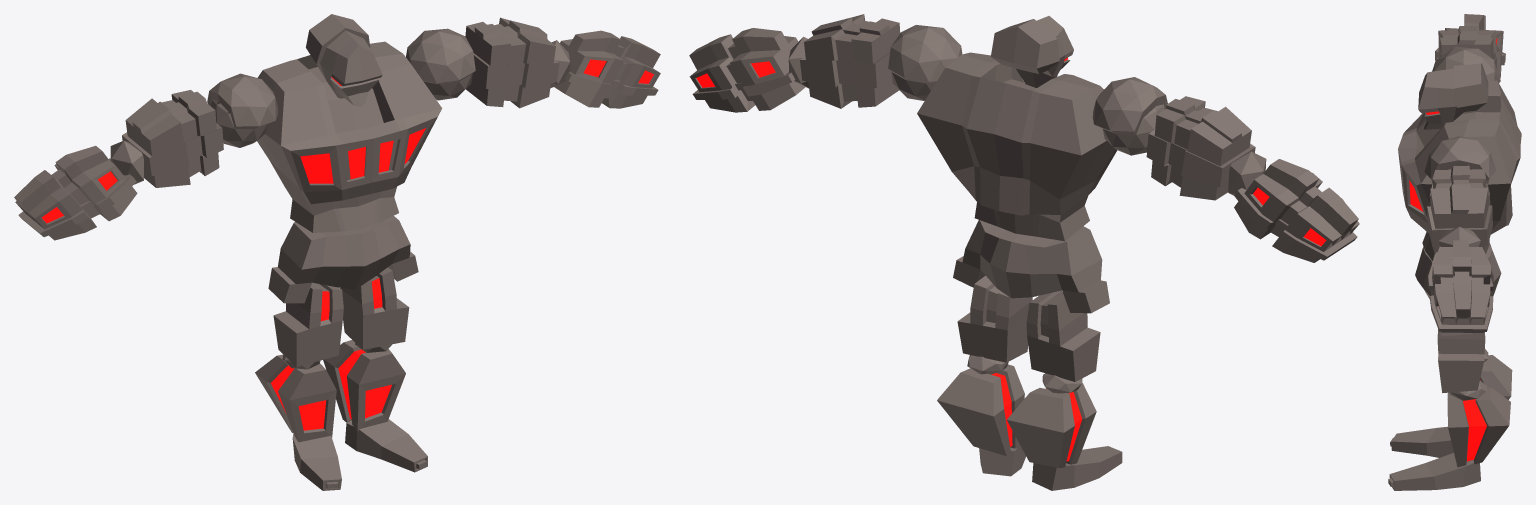
File: blockman.fbx
The picture shows the model from 3 angles, left to right: view 1: azimuth 30°, elevation 25°; view 2: azimuth 150°, elevation 25°; view 3: azimuth 270°, elevation 25°; orthographic projection. The views are drawn at different scales.
Visible parts, largest first — view 1: Cube.031, Cube.034, Cube.033, Cube.028, Cube.027, Cube.030, Icosphere.001, Cube.029, Cube.036, Icosphere; view 2: Cube.031, Cube.033, Cube.034, Cube.028, Cube.027, Cube.030, Icosphere.001, Cube.036, Cube.029, Icosphere, Sphere.006; view 3: Cube.031, Cube.033, Cube.034, Cube.028, Cube.029, Cube.036, Icosphere.001, Cube.027, Cube.030, Icosphere, Sphere.006.
Part boxes in pixels (x1=…): Cube.031: x1=257, y1=41, x2=442, y2=232; Cube.034: x1=122, y1=17, x2=559, y2=187; Cube.033: x1=14, y1=30, x2=660, y2=240; Cube.028: x1=255, y1=340, x2=405, y2=442; Cube.027: x1=273, y1=267, x2=409, y2=366; Cube.030: x1=268, y1=216, x2=418, y2=303; Icosphere.001: x1=207, y1=28, x2=475, y2=147; Cube.029: x1=292, y1=419, x2=427, y2=490; Cube.036: x1=306, y1=14, x2=382, y2=106; Icosphere: x1=110, y1=40, x2=569, y2=184; Cube.031: x1=917, y1=52, x2=1117, y2=241; Cube.033: x1=689, y1=28, x2=1359, y2=262; Cube.034: x1=800, y1=14, x2=1255, y2=200; Cube.028: x1=937, y1=364, x2=1096, y2=468; Cube.027: x1=957, y1=275, x2=1100, y2=381; Cube.030: x1=953, y1=220, x2=1109, y2=313; Icosphere.001: x1=888, y1=25, x2=1167, y2=155; Cube.036: x1=990, y1=16, x2=1073, y2=87; Cube.029: x1=979, y1=445, x2=1122, y2=490; Icosphere: x1=788, y1=36, x2=1266, y2=195; Sphere.006: x1=967, y1=355, x2=1082, y2=393; Cube.031: x1=1398, y1=80, x2=1521, y2=260; Cube.033: x1=1428, y1=14, x2=1505, y2=332; Cube.034: x1=1427, y1=26, x2=1500, y2=254; Cube.028: x1=1447, y1=355, x2=1512, y2=467; Cube.029: x1=1388, y1=426, x2=1480, y2=490; Cube.036: x1=1418, y1=63, x2=1488, y2=129; Icosphere.001: x1=1424, y1=47, x2=1500, y2=183; Cube.027: x1=1437, y1=329, x2=1485, y2=392; Cube.030: x1=1415, y1=243, x2=1501, y2=336; Icosphere: x1=1438, y1=227, x2=1480, y2=248; Sphere.006: x1=1449, y1=349, x2=1488, y2=400.
Bounding box in the file's own units: 605 × 395 × 118.
